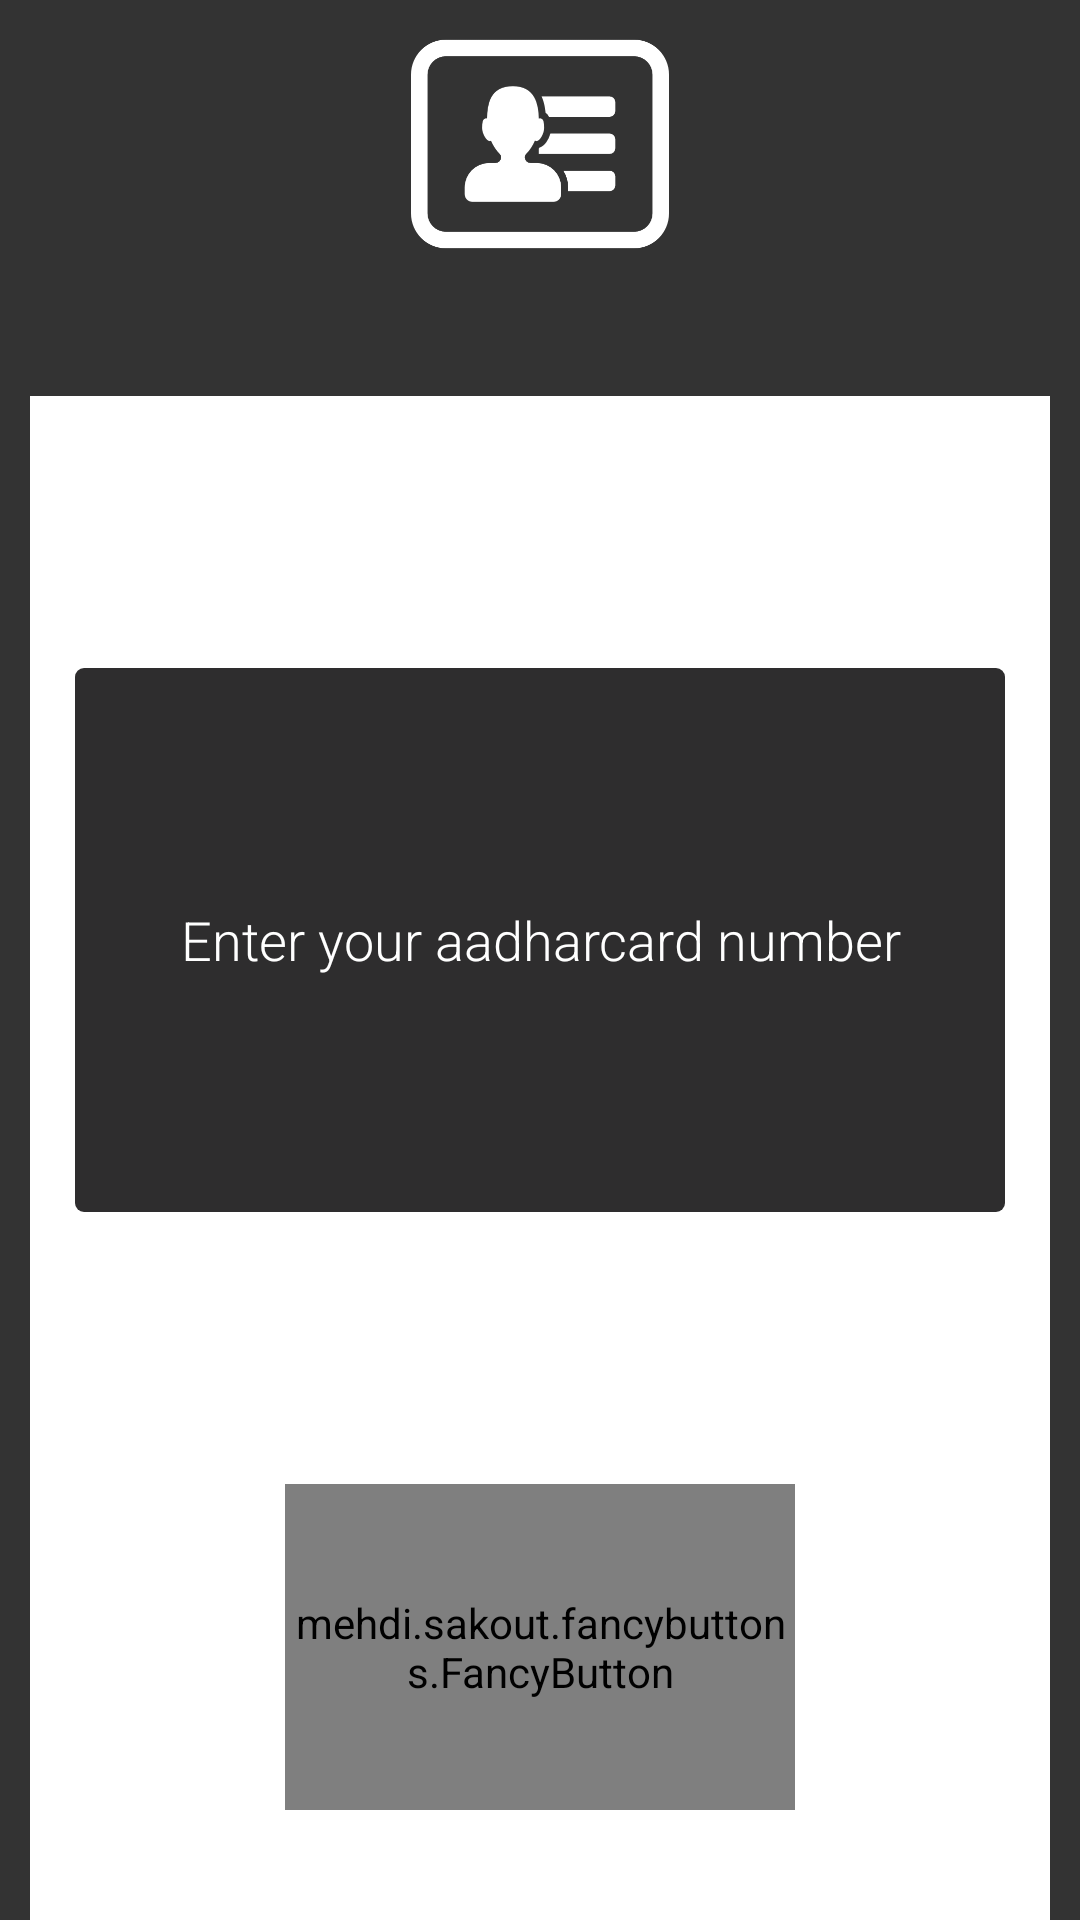

Where icons sit on this 1080x1920 app screen, as box=[x1, y1, x2, y2]:
aadharcardicon: box=[411, 39, 669, 249]
